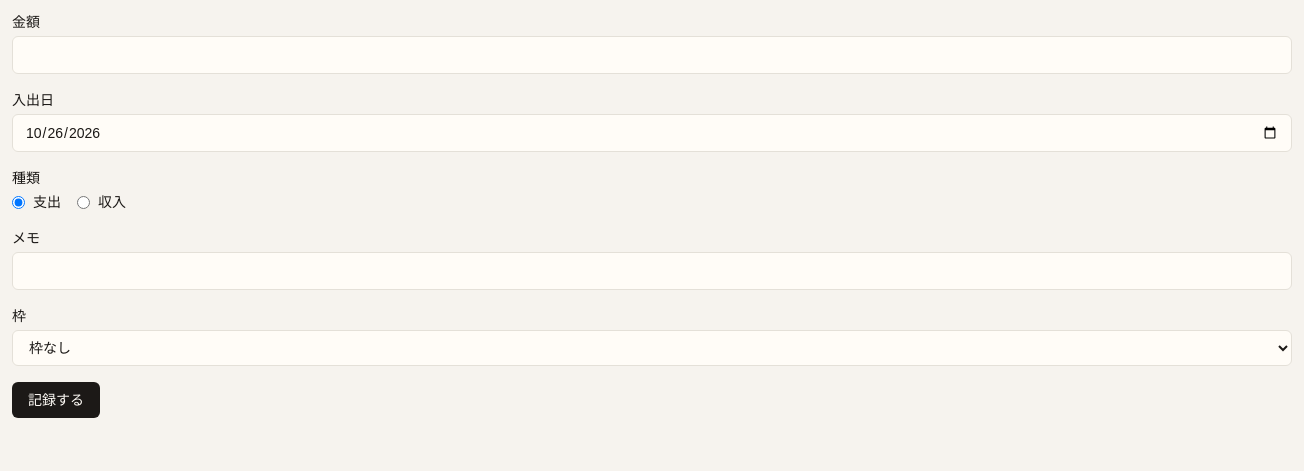
未来の入出日は記録できない
Type "100" into the field labelled "金額". click: (652, 55)
box: [12, 36, 1292, 74]
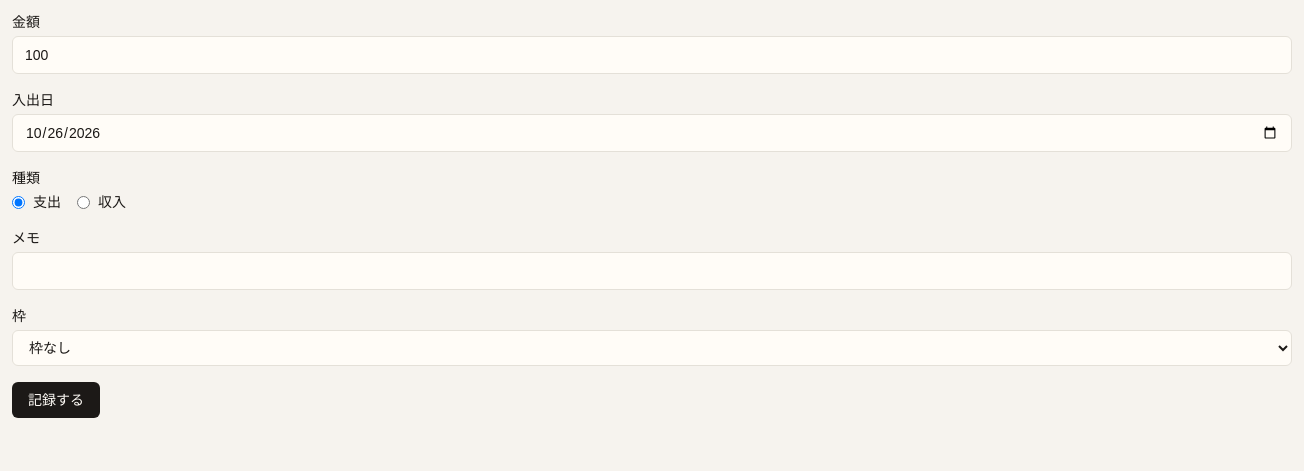
Type "2099-01-01" into the date field labelled "入出日". click: (652, 133)
box: [12, 114, 1292, 152]
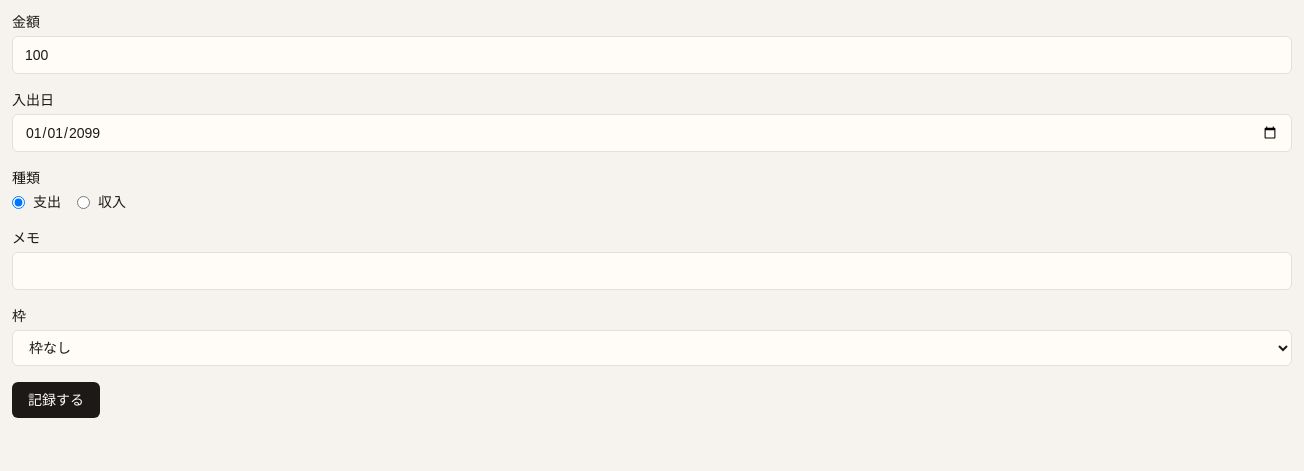
Click the button "記録する". click: (56, 400)
box: [12, 382, 100, 418]
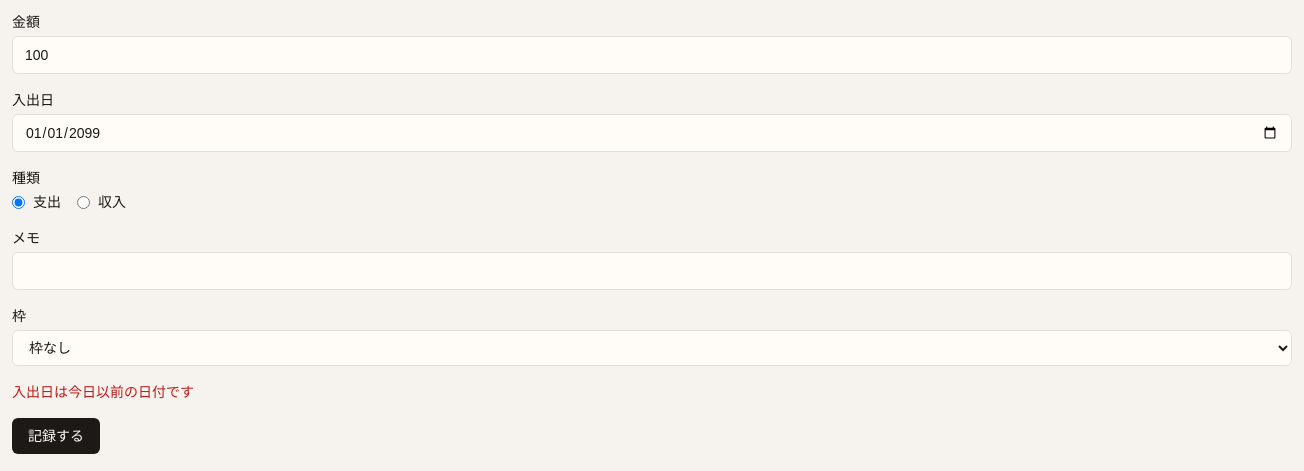
Check: the message reads "入出日は今日以前の日付です", box [12, 384, 194, 400]
